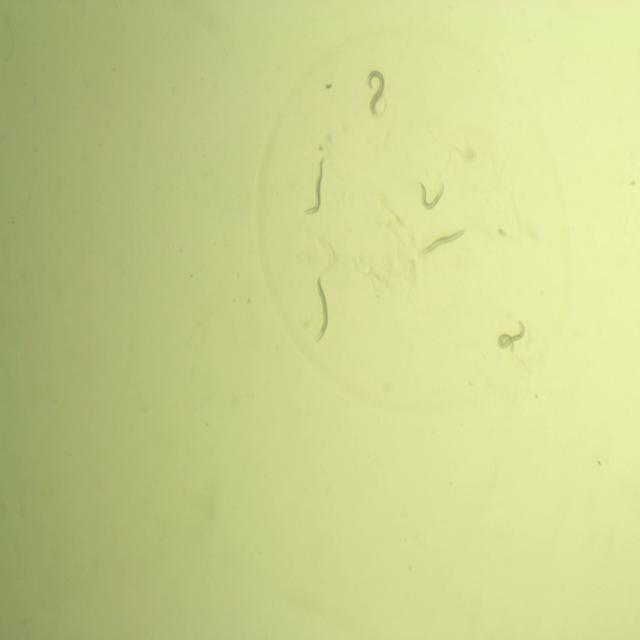worm: (414, 219, 470, 262), (301, 149, 328, 221), (491, 312, 528, 364), (359, 67, 394, 120), (312, 270, 334, 349), (412, 172, 450, 215)
